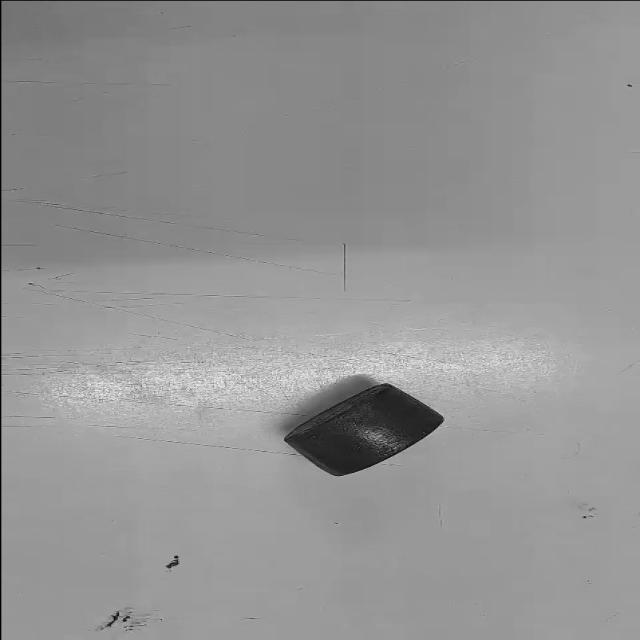rcircle: (284, 384, 444, 475)
